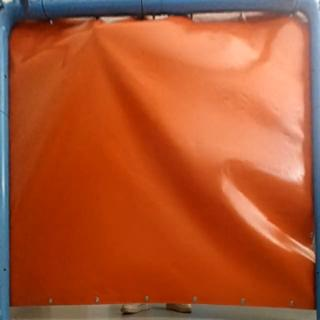Hit-hRxx: (86, 22, 102, 34)
